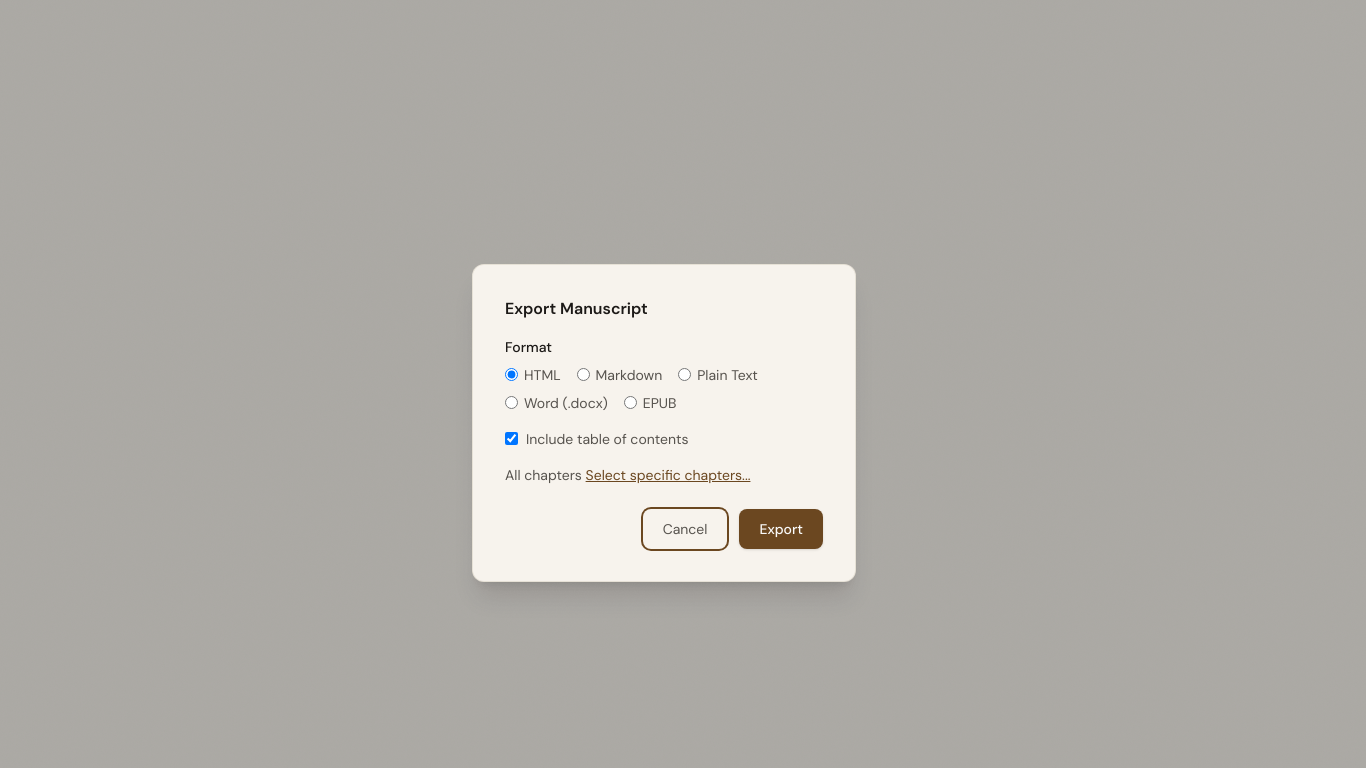
Test: ExportDialog › shows generic error message for non-API errors
This screenshot has width=1366, height=768.
Click the button "Export" at (781,529), box [739,509,823,549]
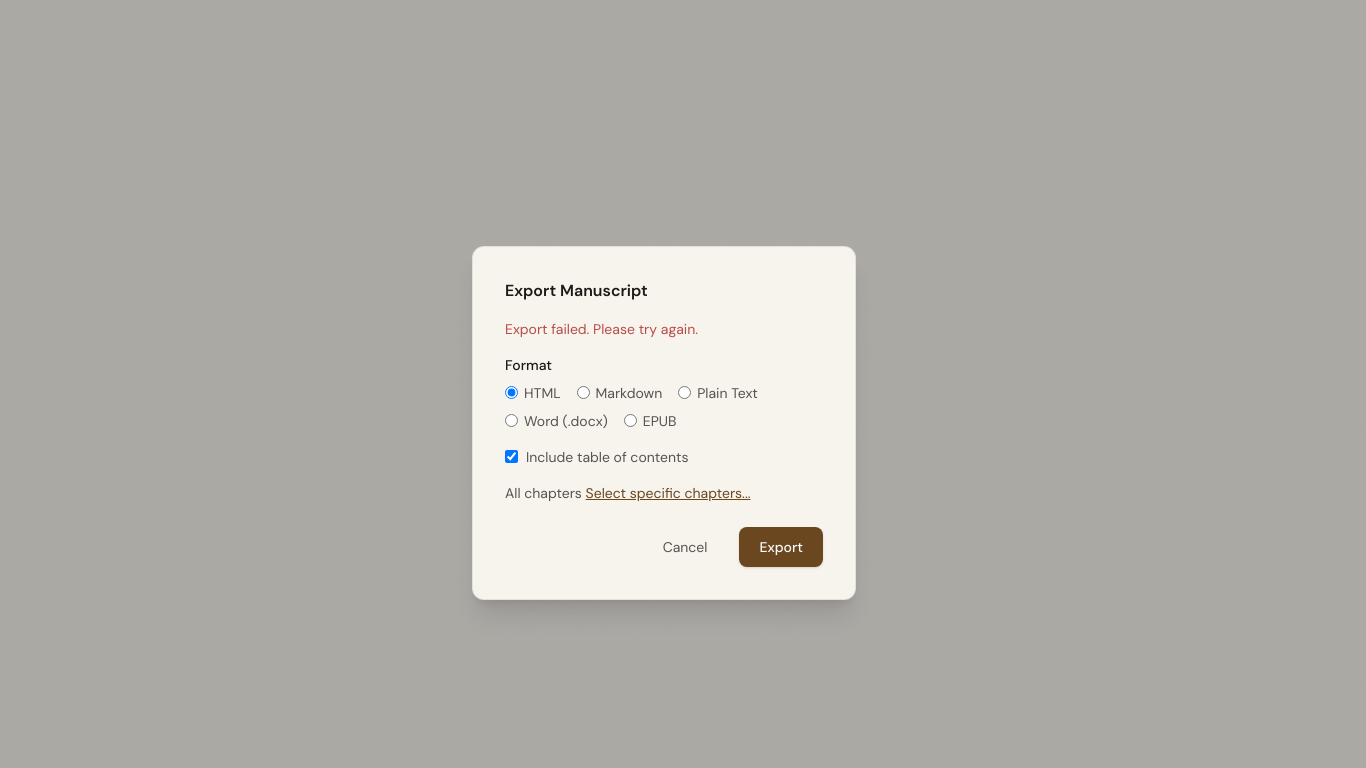
Now the message reads "Export failed. Please try again.", box [505,320,698,338]
